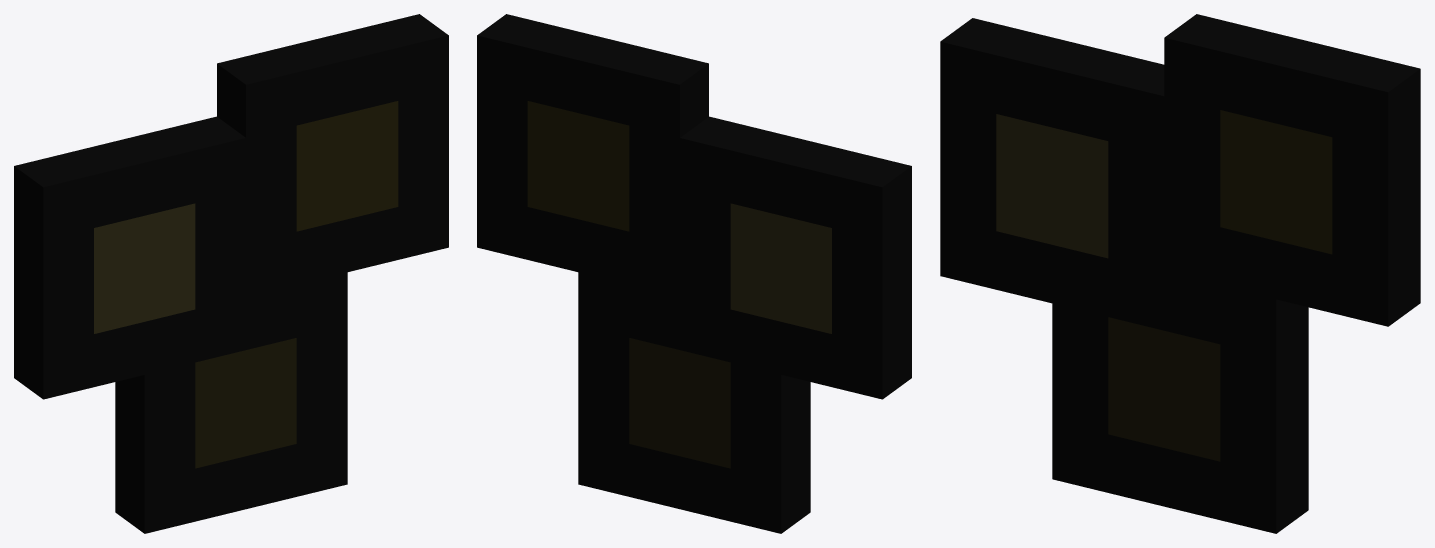
Rendered from Banana Seeds.glb.
3 renders of one model, left to right at view 1: azimuth 30°, elevation 25°; view 2: azimuth 150°, elevation 25°; view 3: azimuth 330°, elevation 25°, orthographic. The views are drawn at different scales.
Visible parts, largest first — view 1: generated(Clone); view 2: generated(Clone); view 3: generated(Clone).
Boxes of the visible parts, x1,y1,x2,y2 form: generated(Clone): (14,14,448,533); generated(Clone): (477,14,911,533); generated(Clone): (940,14,1420,533).
Bounding box in the file's own units: 8 × 8 × 1.
1 material, 1 textured.
